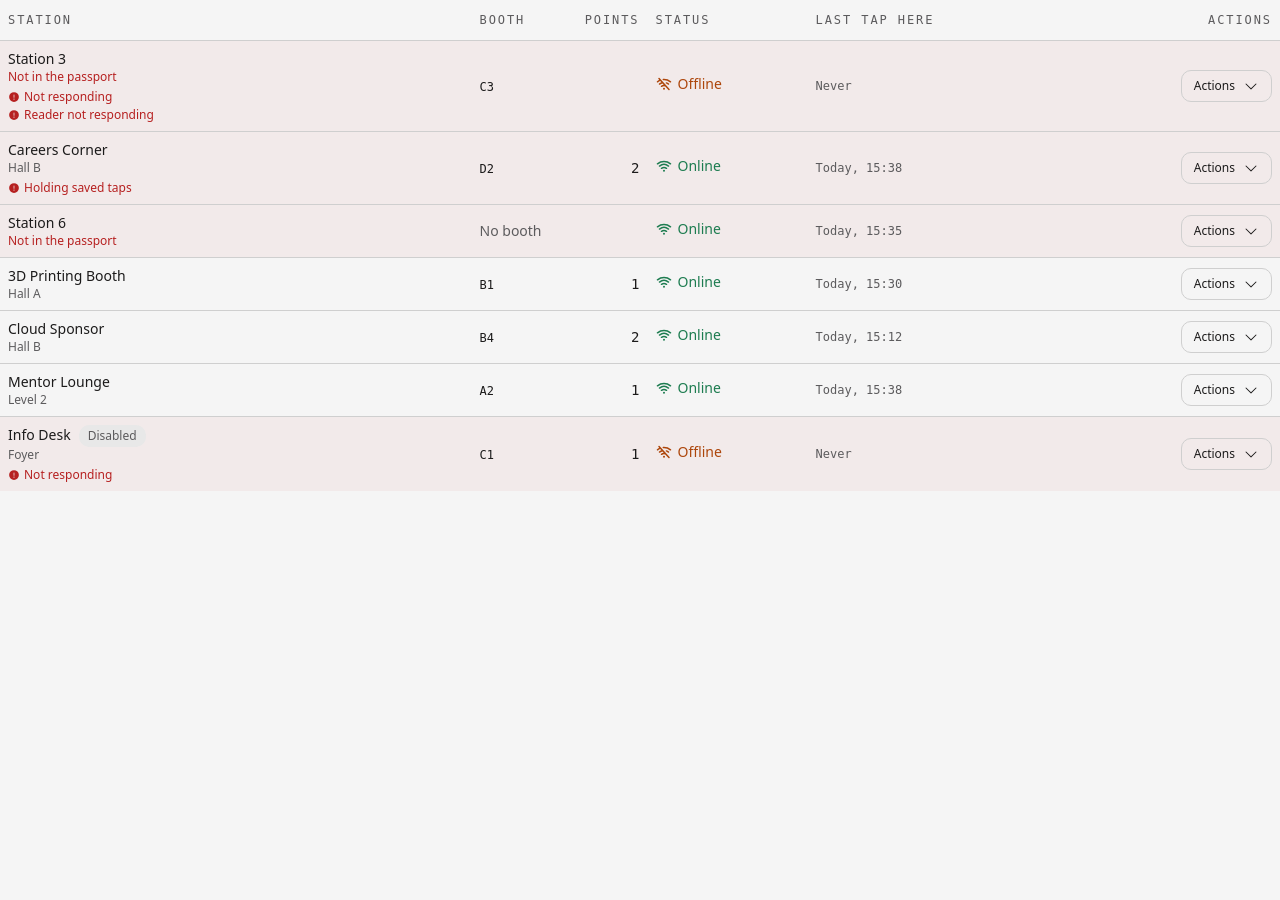
replacing a station's key › says so plainly when the station is gone, and shows no key
The width and height of the screenshot is (1280, 900).
Click the button "Actions" in the row of "3D Printing Booth" at x=1226, y=284, box [1181,268,1272,300]
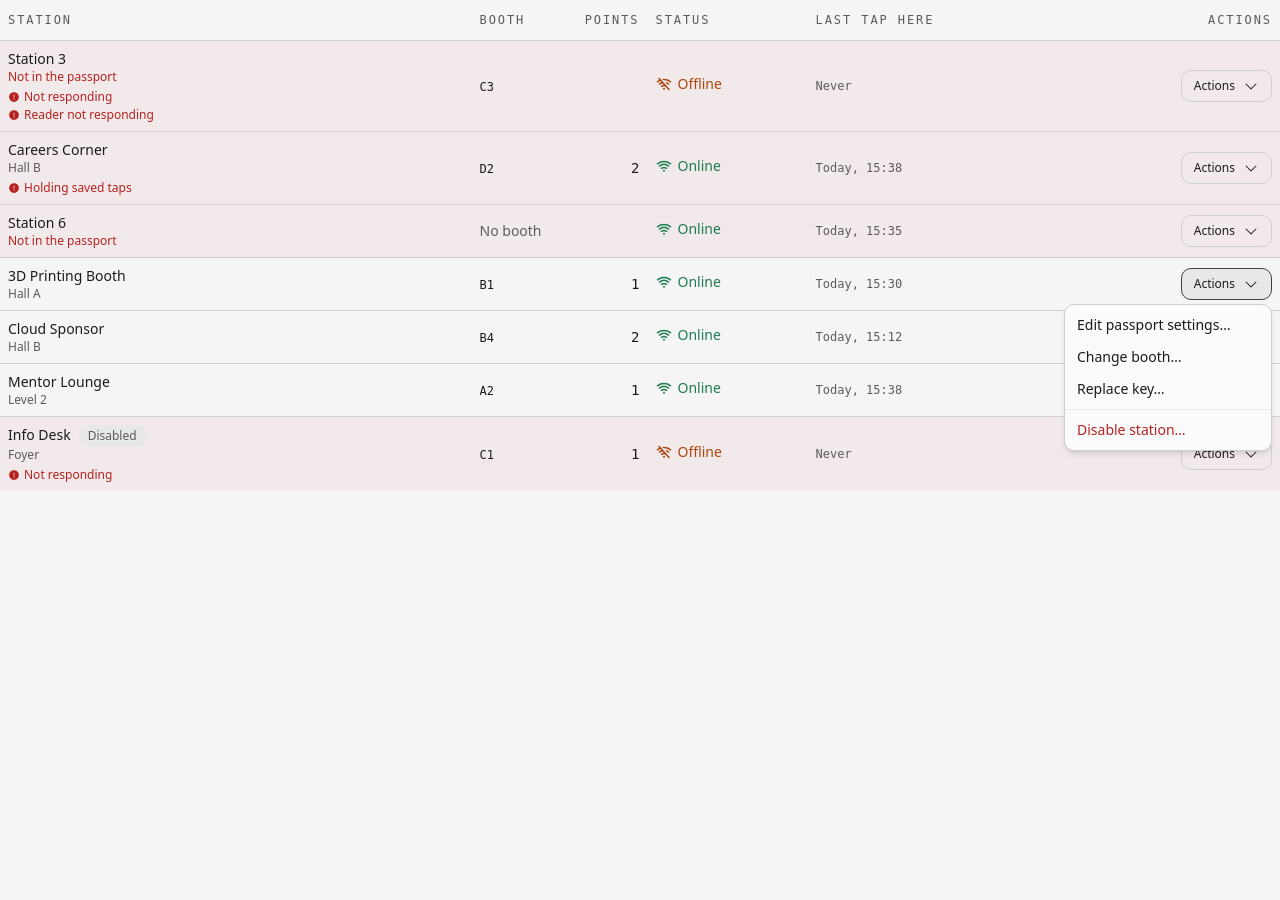
Result: the menu is shown at [1064,304,1272,451]
Click the menu item "Replace key…" at x=1121, y=388, box [1077,379,1165,398]
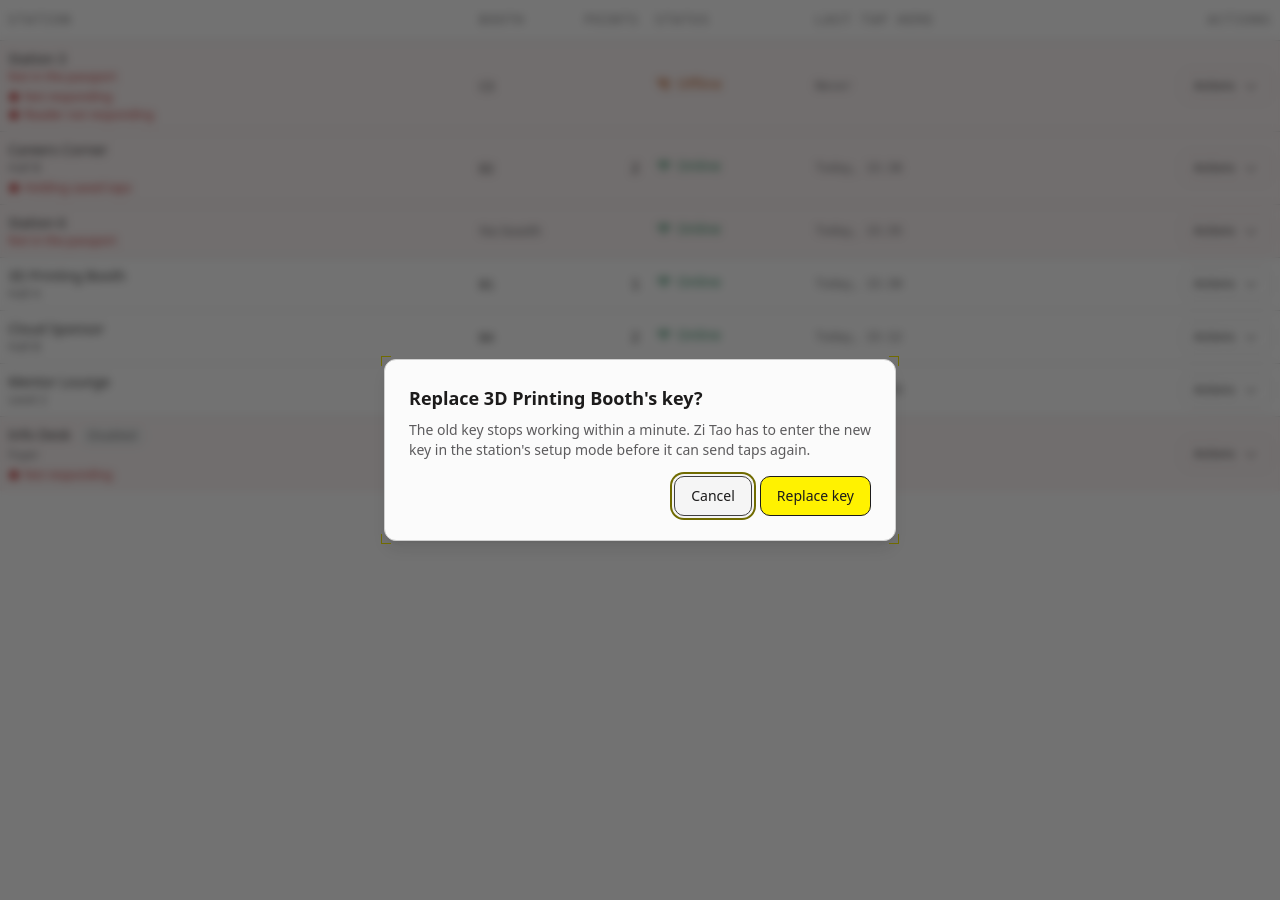
Click the button "Replace key" at x=815, y=496, box [760,476,871,516]
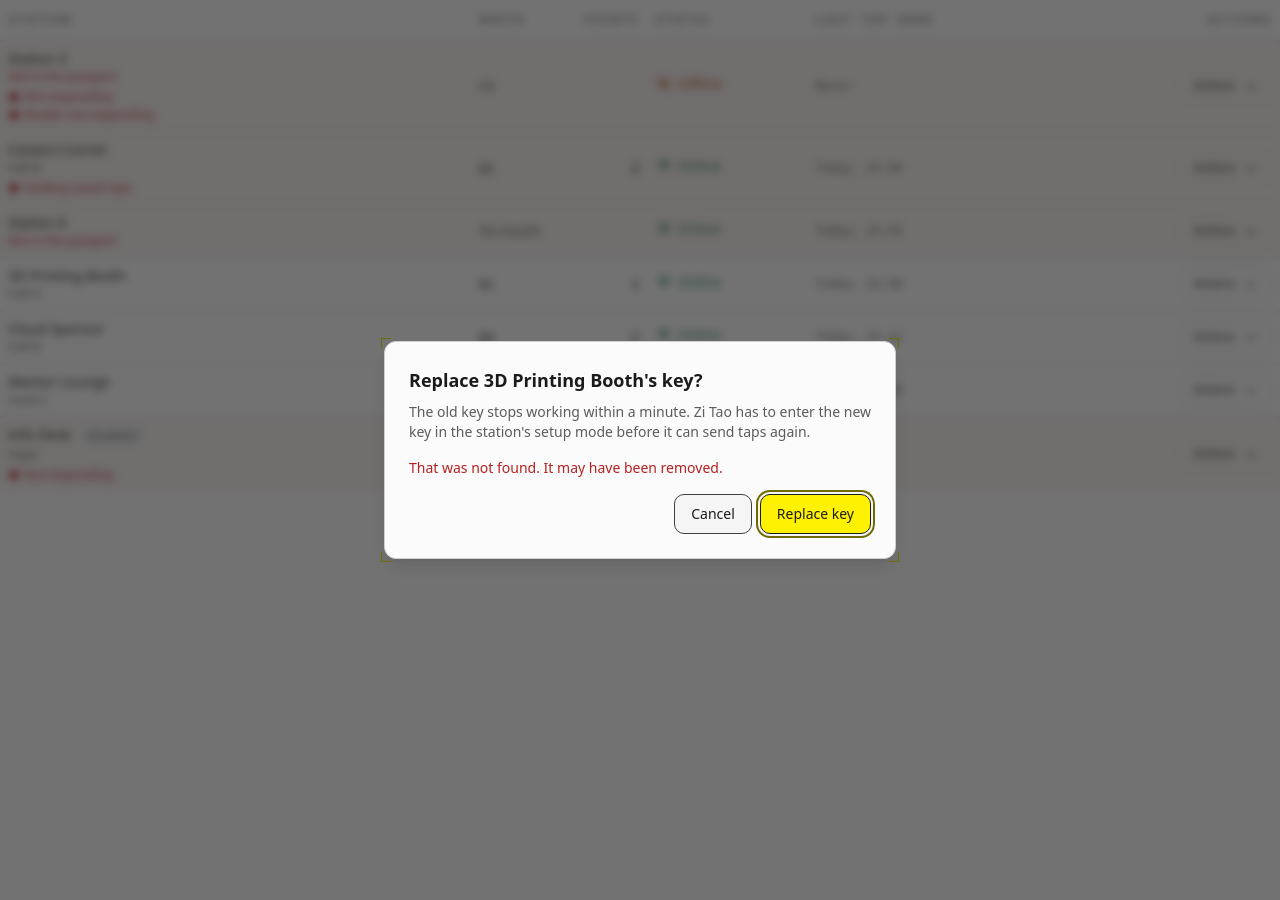
Result: the message reads "That was not found. It may have been removed." at [409,458,723,477]
